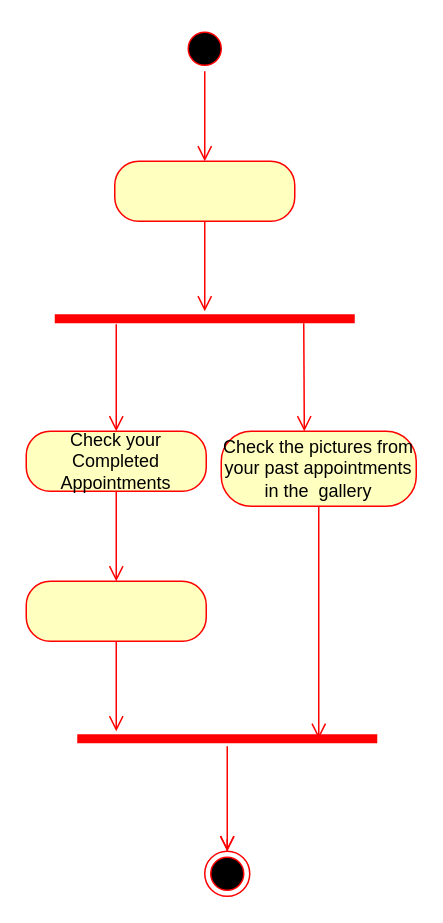
The diagram is 443 pixels wide and 923 high, and some of its shapes have lost their labels. The centre of each missing label's shape, as x and y in pixels:
Get information for the date, price and the service offered: point 115,610
Go to Dashboard: point 204,190
